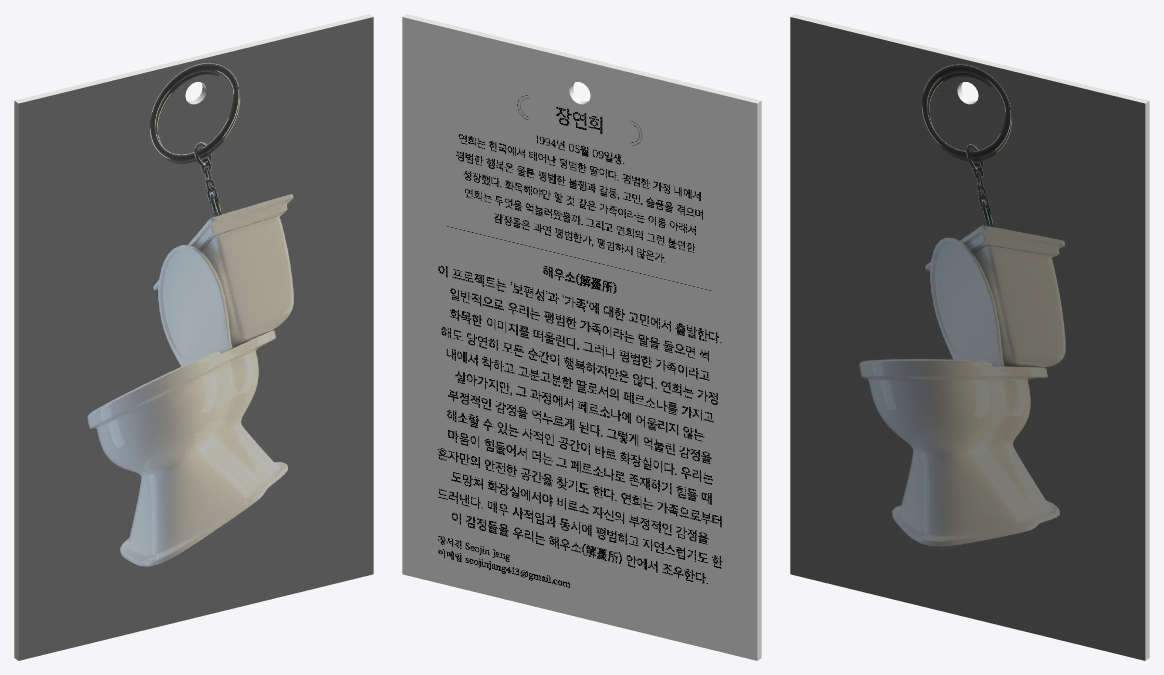
The model's file is leaflet.glb.
3 renders of one model, left to right at view 1: azimuth 30°, elevation 25°; view 2: azimuth 150°, elevation 25°; view 3: azimuth 330°, elevation 25°, orthographic.
Parts seen in each view (by area): view 1: Boole-Mat.9, Boole-Mat.1; view 2: Boole-Mat.10, Boole-Mat.1; view 3: Boole-Mat.9, Boole-Mat.1.
Part boxes in pixels (x1,y1,x2,y2): Boole-Mat.9: (18,17,373,660); Boole-Mat.1: (14,14,372,660); Boole-Mat.10: (402,17,757,660); Boole-Mat.1: (403,14,761,660); Boole-Mat.9: (790,17,1145,660); Boole-Mat.1: (791,14,1149,660).
Bounding box in the file's own units: 100 × 150 × 2.
3 materials, 2 textured.
